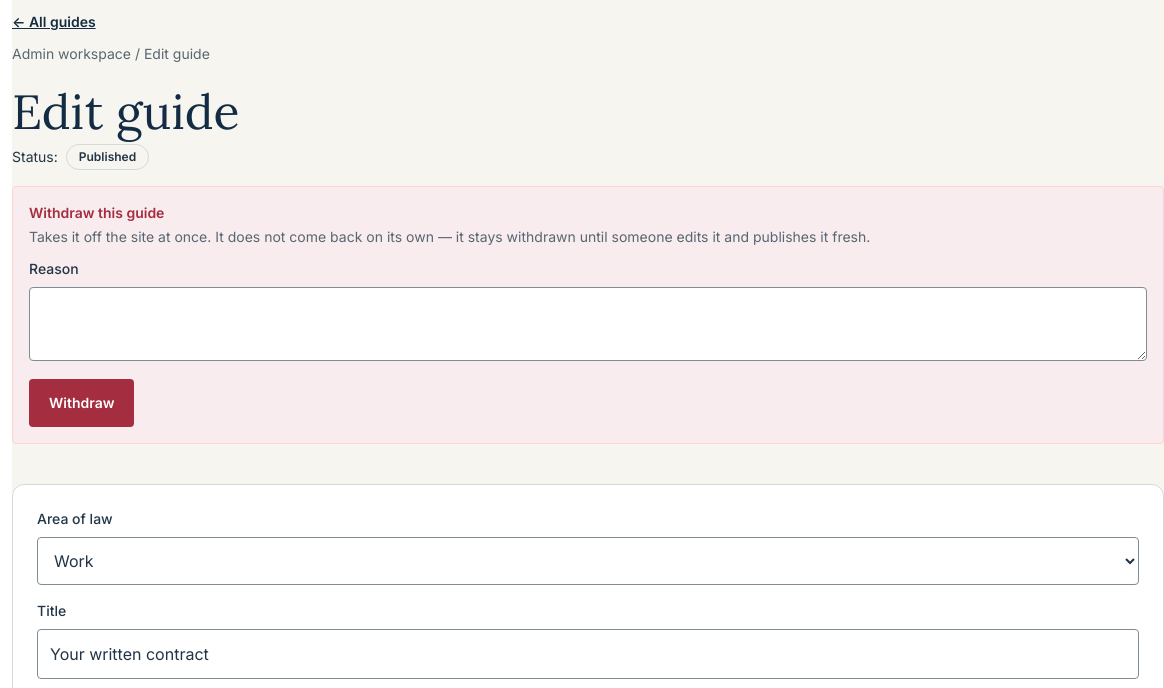
Scenario: The integrity rule on a published guide › offers to withdraw, and refuses with no reason typed
Click the button "Withdraw": point(82, 403) [29,379,134,427]
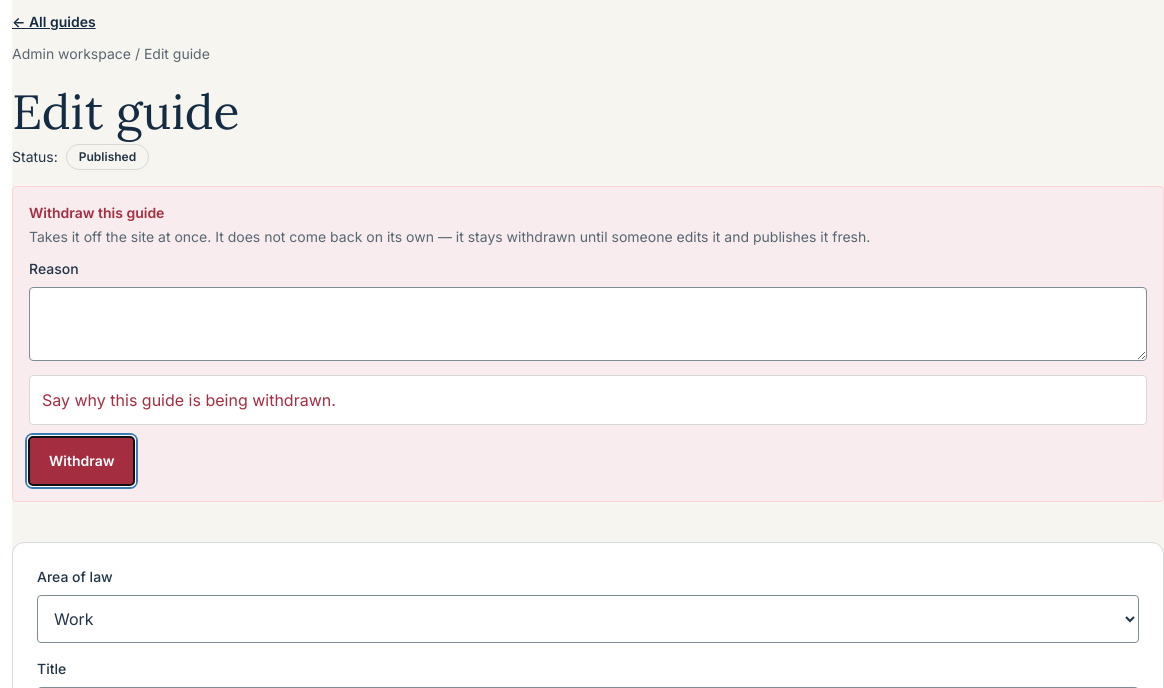
Check: the message reads "Say why this guide is being withdrawn.", box [42,390,336,410]
